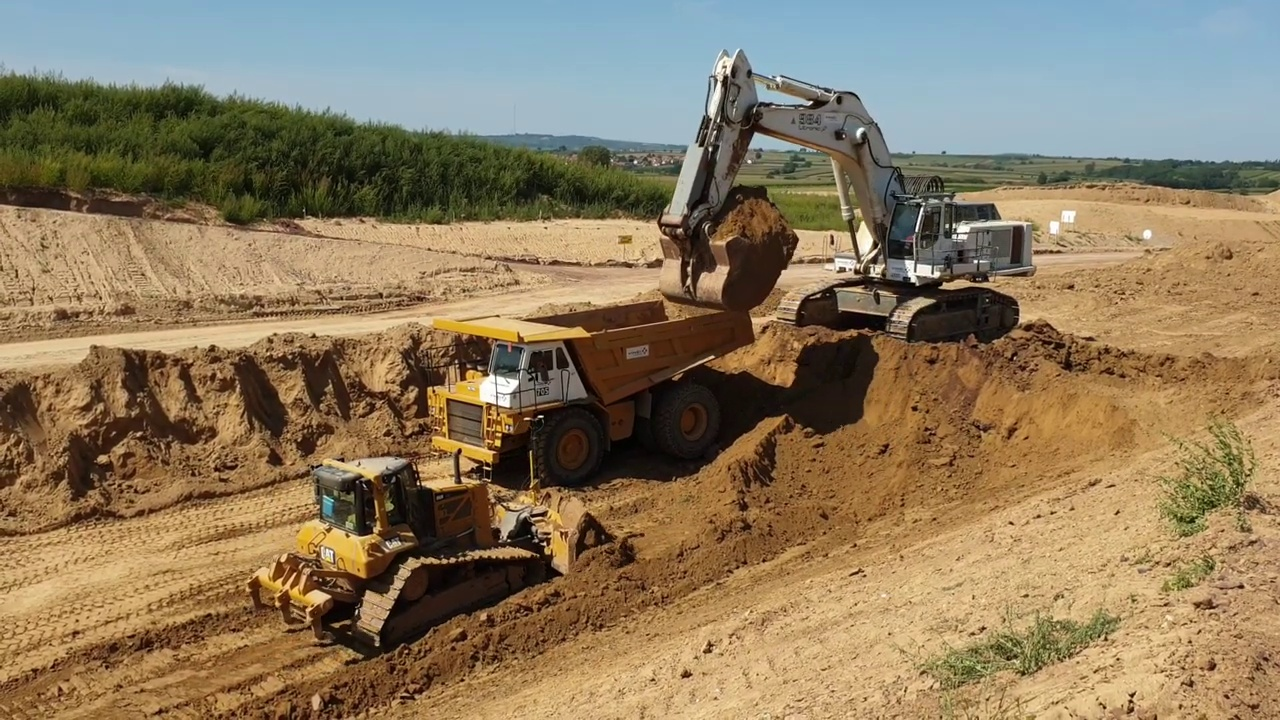bulldozer: (246, 419, 590, 655)
excavator: (654, 41, 1042, 350)
truck: (405, 295, 768, 492)
